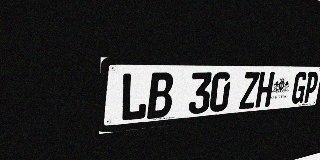0: (209, 72, 232, 113)
3: (188, 72, 212, 115)
B: (147, 72, 174, 119)
G: (290, 72, 308, 104)
H: (255, 72, 275, 108)
L: (119, 72, 149, 122)
P: (302, 72, 319, 103)
Z: (239, 72, 260, 110)
